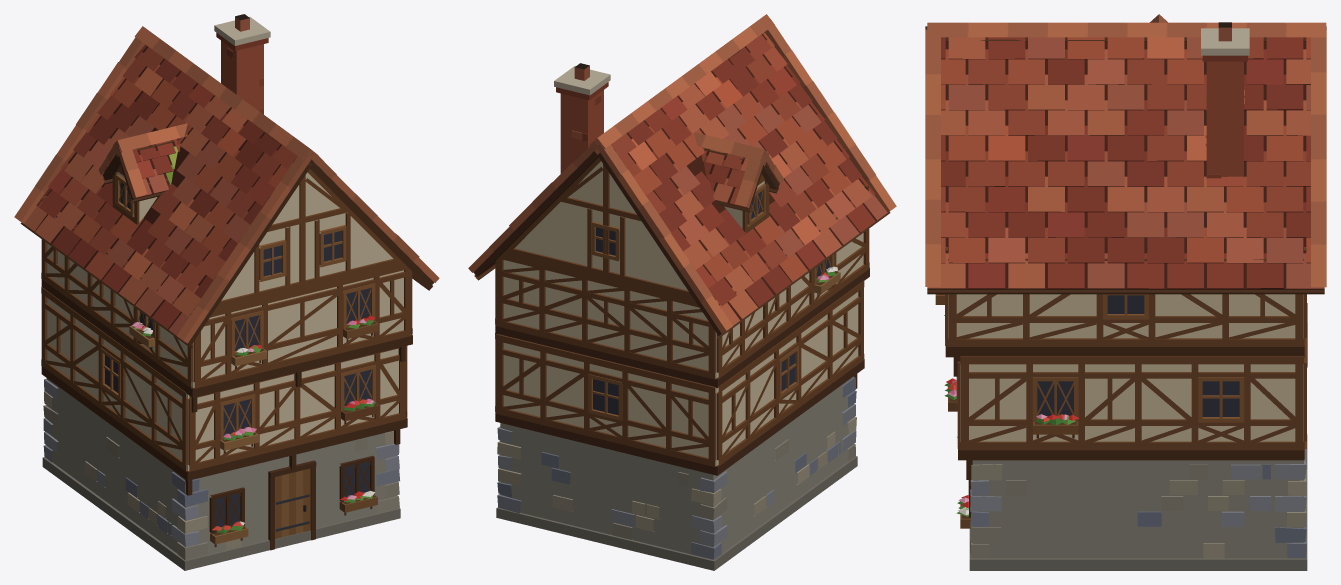
The model's file is town_house_red.glb.
3 renders of one model, left to right at view 1: azimuth 30°, elevation 25°; view 2: azimuth 150°, elevation 25°; view 3: azimuth 270°, elevation 25°, orthographic. The views are drawn at different scales.
Parts seen in each view (by area): view 1: town_house_red; view 2: town_house_red; view 3: town_house_red.
Part boxes in pixels (box(x1,y1,x2,y2)): town_house_red: box(14, 14, 439, 570); town_house_red: box(468, 14, 896, 570); town_house_red: box(925, 14, 1326, 570).
Bounding box in the file's own units: 8.5 × 13.77 × 9.7.
